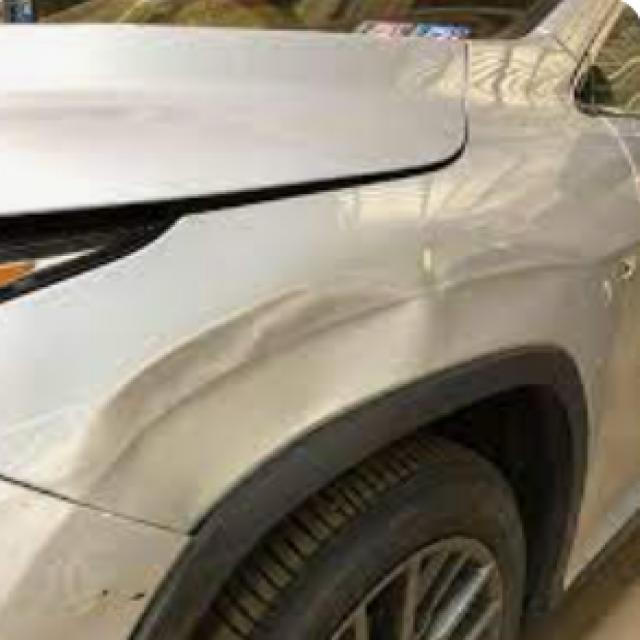dents: (44, 267, 430, 500)
